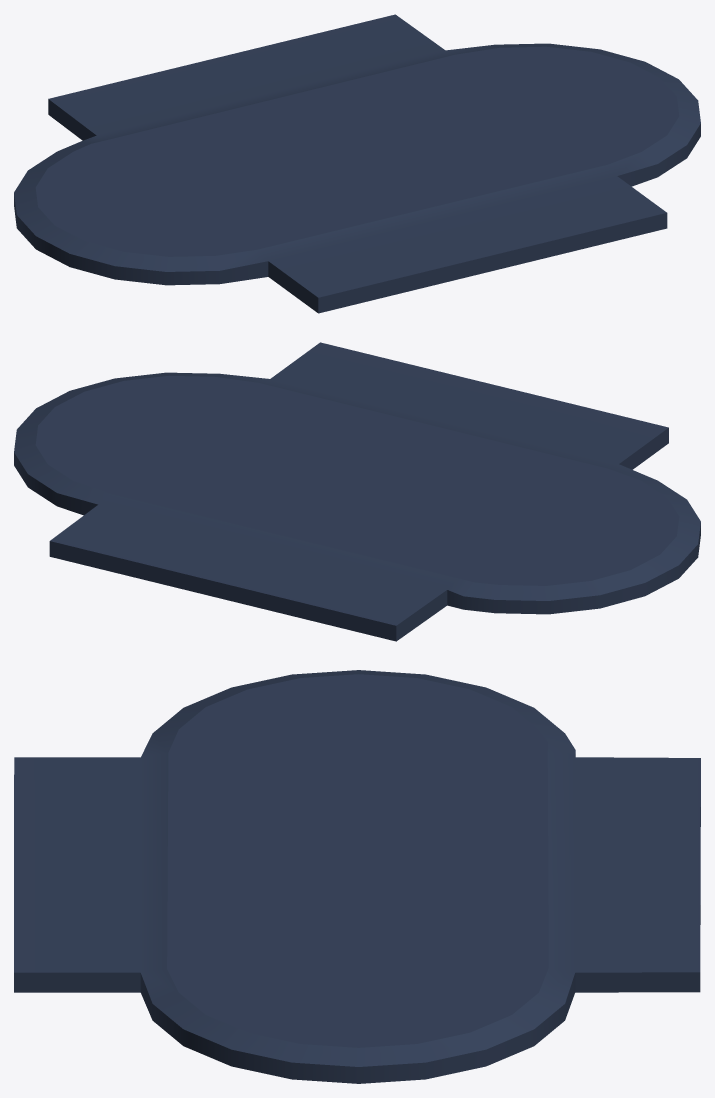
The model's file is SR roof.fbx.
The picture shows the model from 3 angles, top to bottom: view 1: azimuth 30°, elevation 25°; view 2: azimuth 150°, elevation 25°; view 3: azimuth 270°, elevation 25°; orthographic projection. The views are drawn at different scales.
Parts seen in each view (by area): view 1: SR_roof; view 2: SR_roof; view 3: SR_roof.
Part boxes in pixels (x1,y1,x2,y2): SR_roof: (14,14,700,313); SR_roof: (14,342,700,641); SR_roof: (14,670,700,1083).
Bounding box in the file's own units: 2121 × 60.84 × 1551.
